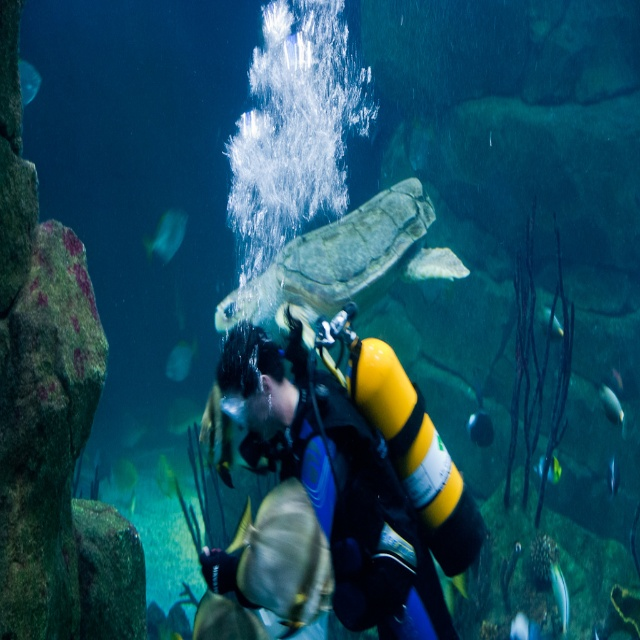Turtle: (214, 178, 469, 339)
